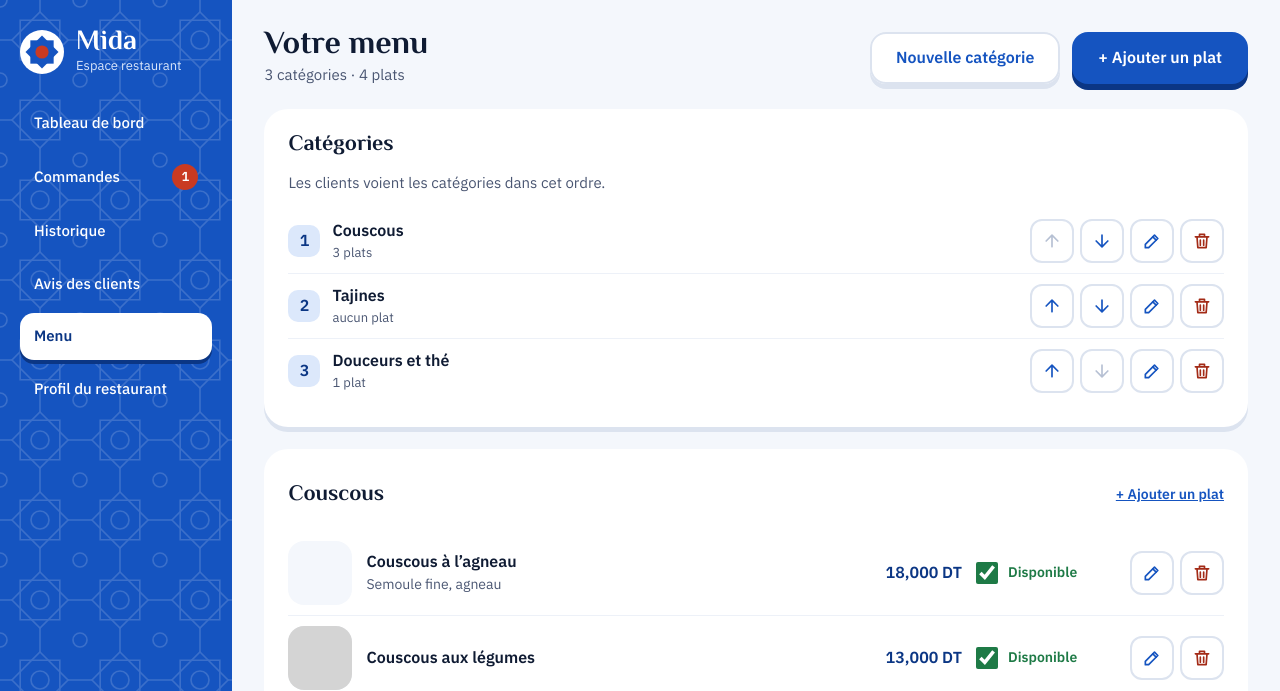
it: menu : catégories (US09) › catégorie avec des plats : la confirmation annonce les plats supprimés ; « Annuler » ne supprime rien
This screenshot has width=1280, height=691.
What coordinates should you click on to do the following:
click the button named "Supprimer Couscous"
I would click on:
 (1202, 241)
Its box is [1180,219,1224,263].
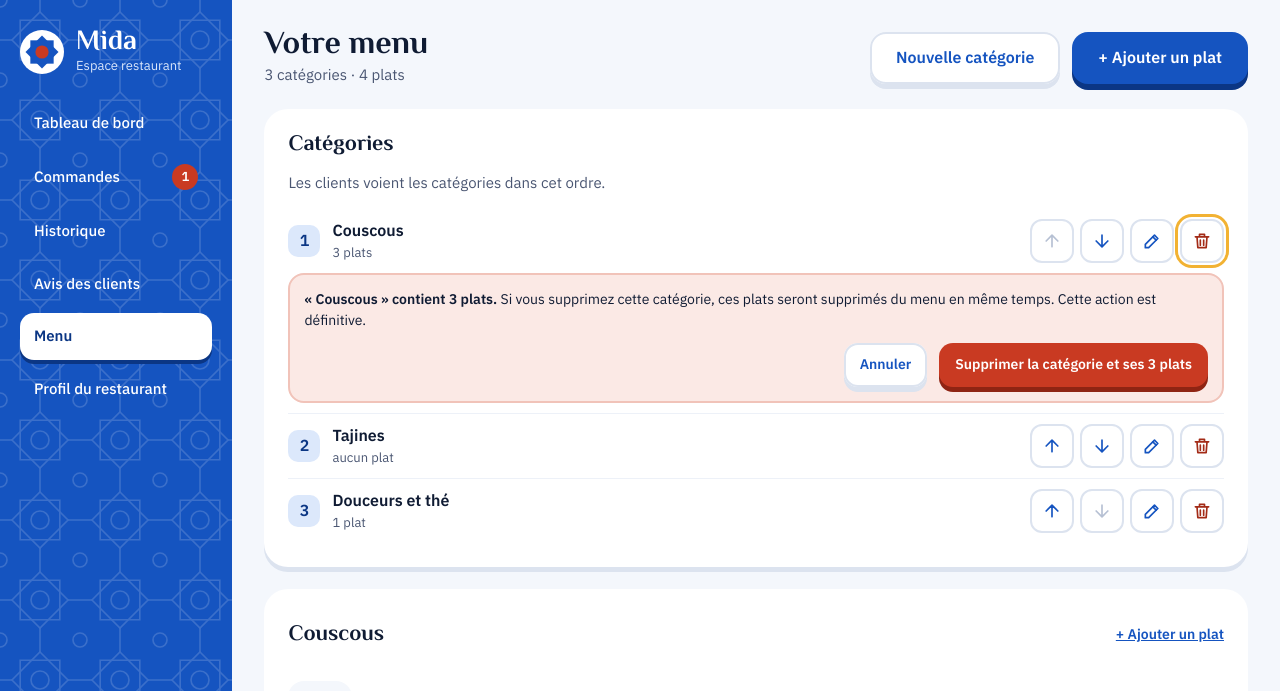
Expected: the dialog named "Supprimer Couscous ?" shows "« Couscous » contient 3 plats.", [288,273,1224,403]
Expected: the dialog named "Supprimer Couscous ?" shows "ces plats seront supprimés", [718,289,887,310]
What coordinates should you click on to do the following:
click the button "Annuler"
I would click on:
 (885, 365)
Its box is [844,343,927,387].
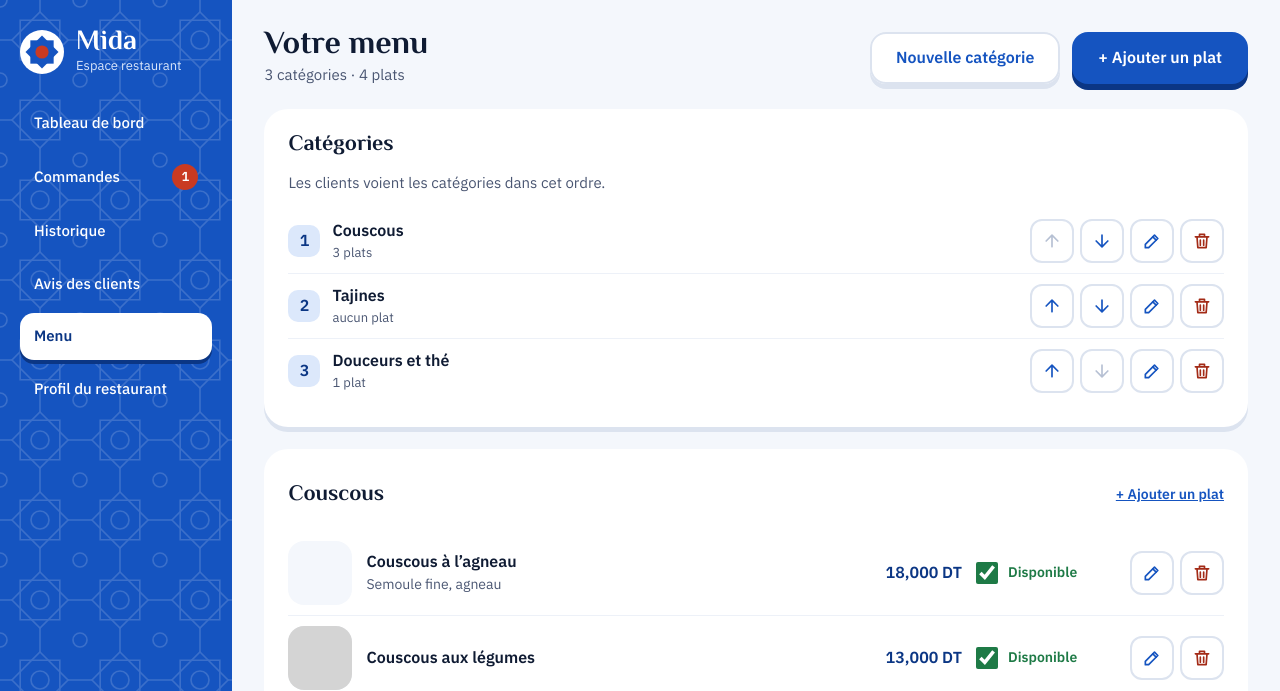
Expected: the dialog is gone
What coordinates should you click on to do the following:
click the button named "Supprimer Couscous"
I would click on:
 (1202, 241)
Its box is [1180,219,1224,263].
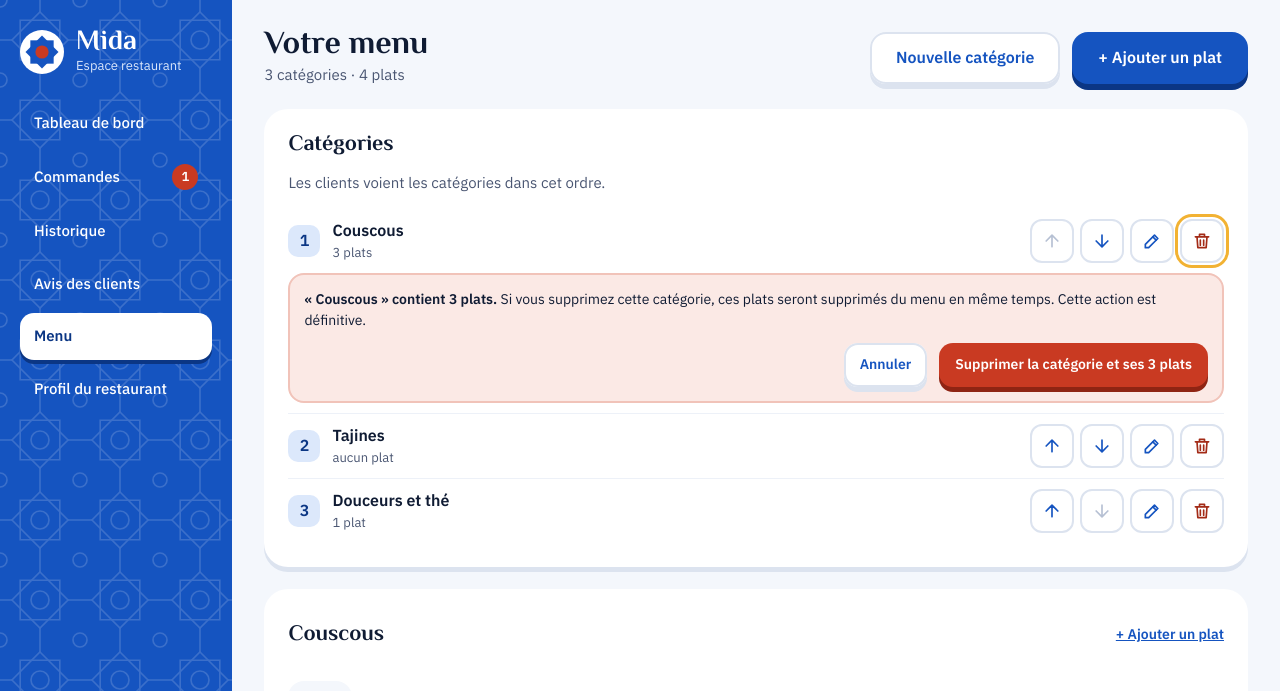
What coordinates should you click on to do the following:
click the button "Supprimer la catégorie et ses 3 plats"
I would click on:
 (1074, 365)
Its box is [939,343,1208,387].
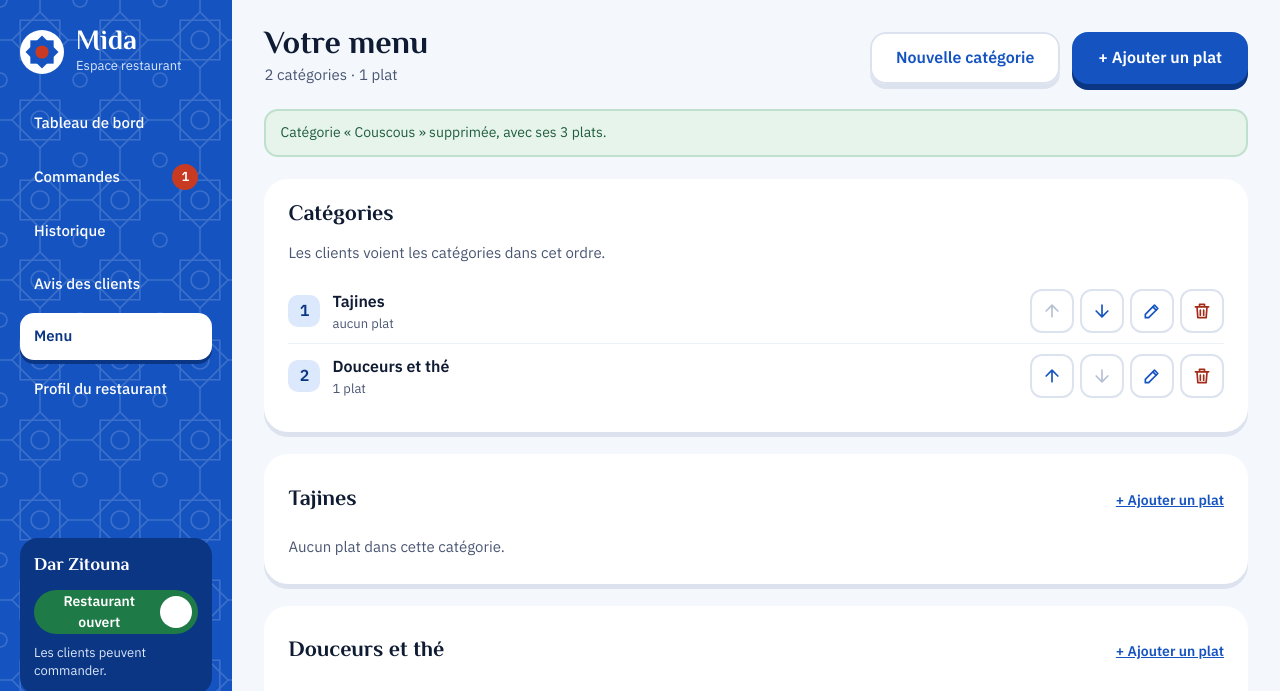
Expected: the message shows "supprimée, avec ses 3 plats", [280,122,607,143]
